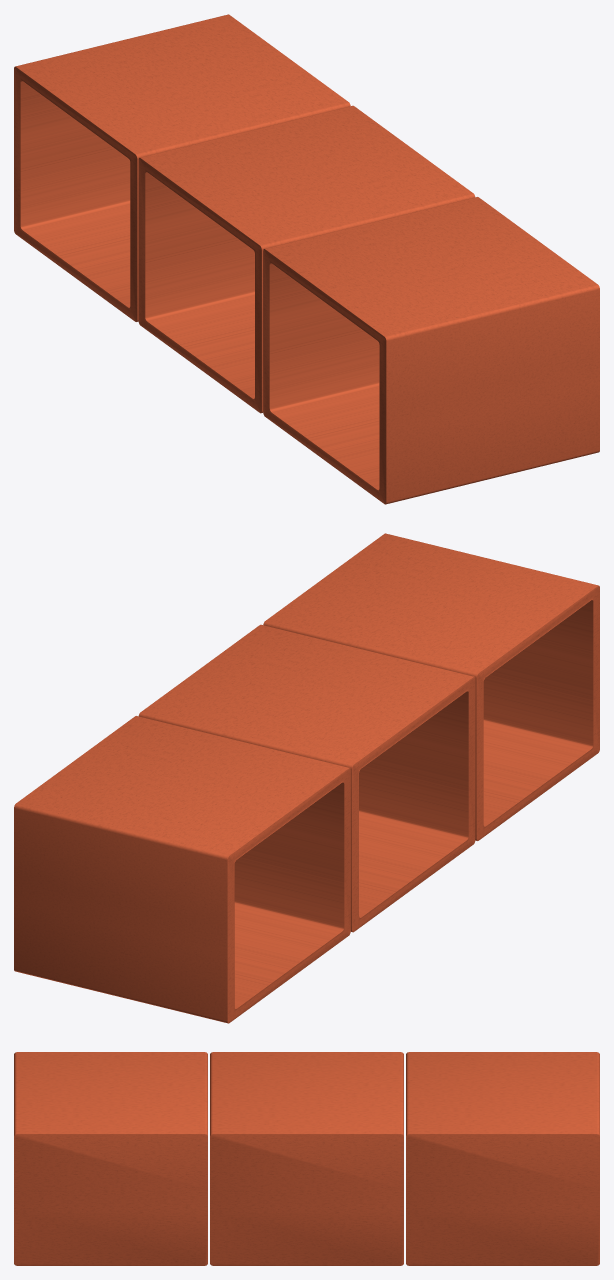
Rendered from SmallHangingCabinets.fbx.
3 renders of one model, top to bottom at view 1: azimuth 30°, elevation 25°; view 2: azimuth 150°, elevation 25°; view 3: azimuth 270°, elevation 25°, orthographic. The views are drawn at different scales.
Visible parts, largest first — view 1: SmallHangingCabinets_Baked; view 2: SmallHangingCabinets_Baked; view 3: SmallHangingCabinets_Baked.
Part boxes in pixels (x1,y1,x2,y2): SmallHangingCabinets_Baked: (14, 14, 599, 504); SmallHangingCabinets_Baked: (14, 533, 599, 1023); SmallHangingCabinets_Baked: (14, 1052, 599, 1265).
Size of the model in its own units: 100 by 75 by 302.
1 material, 1 textured.
